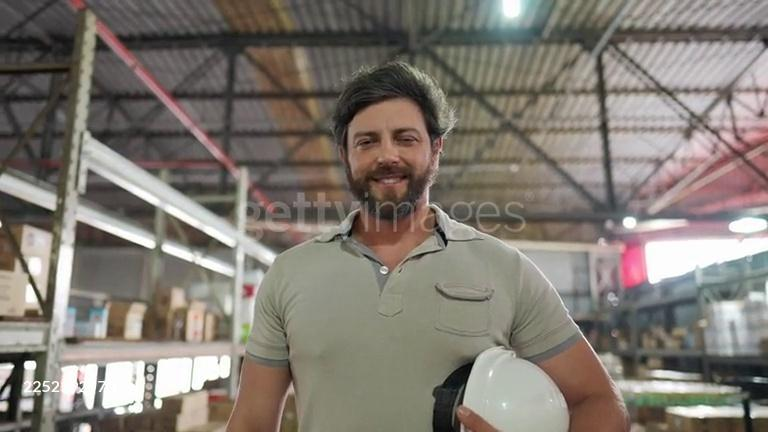helmet: (456, 346, 570, 432)
person: (224, 62, 632, 432)
